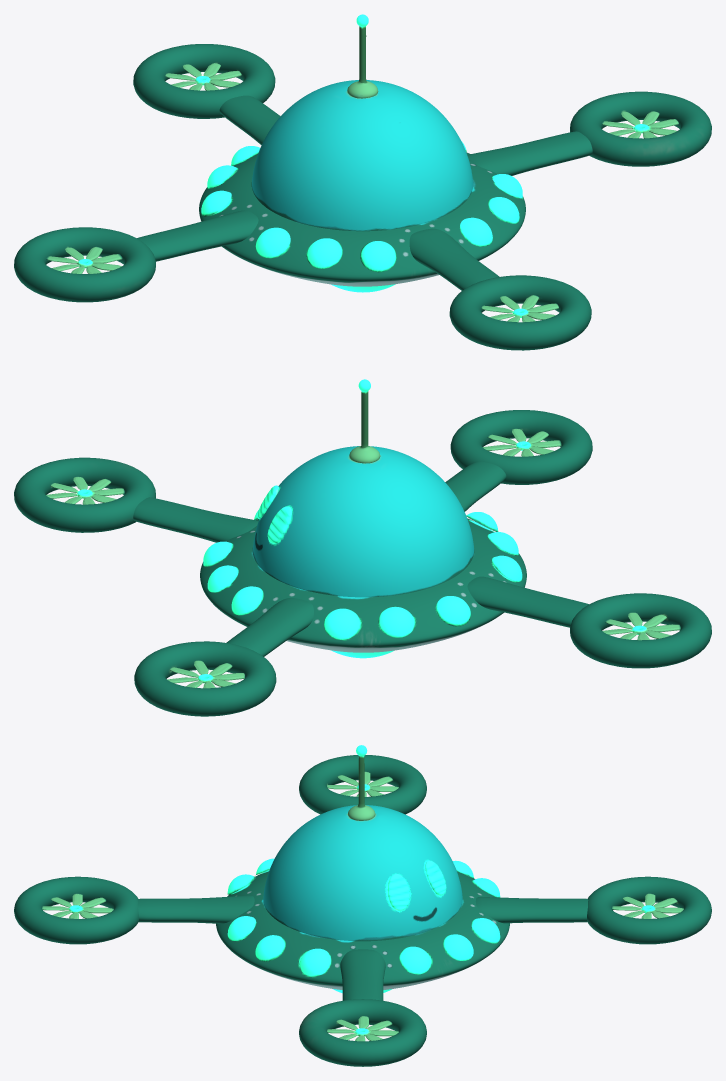
3 views of the same model, one above another, from view 1: azimuth 30°, elevation 25°; view 2: azimuth 150°, elevation 25°; view 3: azimuth 270°, elevation 25° (orthographic). The views are drawn at different scales.
Visible parts, largest first — view 1: Export_for_maya_polygon_increase:pSphere15; view 2: Export_for_maya_polygon_increase:pSphere15; view 3: Export_for_maya_polygon_increase:pSphere15.
Boxes of the visible parts, left/top/right/bottom form: Export_for_maya_polygon_increase:pSphere15: left=14, top=14, right=711, bottom=350; Export_for_maya_polygon_increase:pSphere15: left=14, top=379, right=711, bottom=716; Export_for_maya_polygon_increase:pSphere15: left=14, top=745, right=711, bottom=1066.
Size of the model in its own units: 1198 by 457 by 1183.
1 material, 1 textured.
